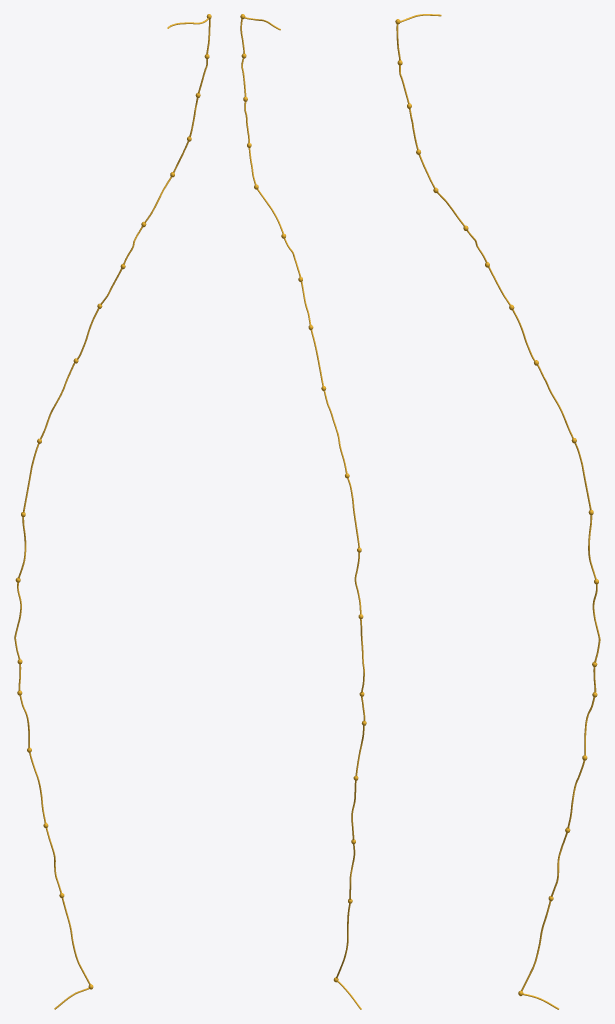
The model's file is nervoso-sympathetic-trunk-r.glb.
The picture shows the model from 3 angles, left to right: view 1: azimuth 90°, elevation 25°; view 2: azimuth 210°, elevation 25°; view 3: azimuth 270°, elevation 25°; orthographic projection. The views are drawn at different scales.
Parts seen in each view (by area): view 1: Sympathetic trunk.r; view 2: Sympathetic trunk.r, Ganglia of sympathetic trunk.r; view 3: Sympathetic trunk.r.
Boxes of the visible parts, left/top/right/bottom form: Sympathetic trunk.r: left=14, top=18, right=210, bottom=1009; Sympathetic trunk.r: left=240, top=17, right=365, bottom=1009; Ganglia of sympathetic trunk.r: left=240, top=14, right=366, bottom=982; Sympathetic trunk.r: left=396, top=14, right=600, bottom=1009.
Bounding box in the file's own units: 0.0204 × 0.3717 × 0.0682.
